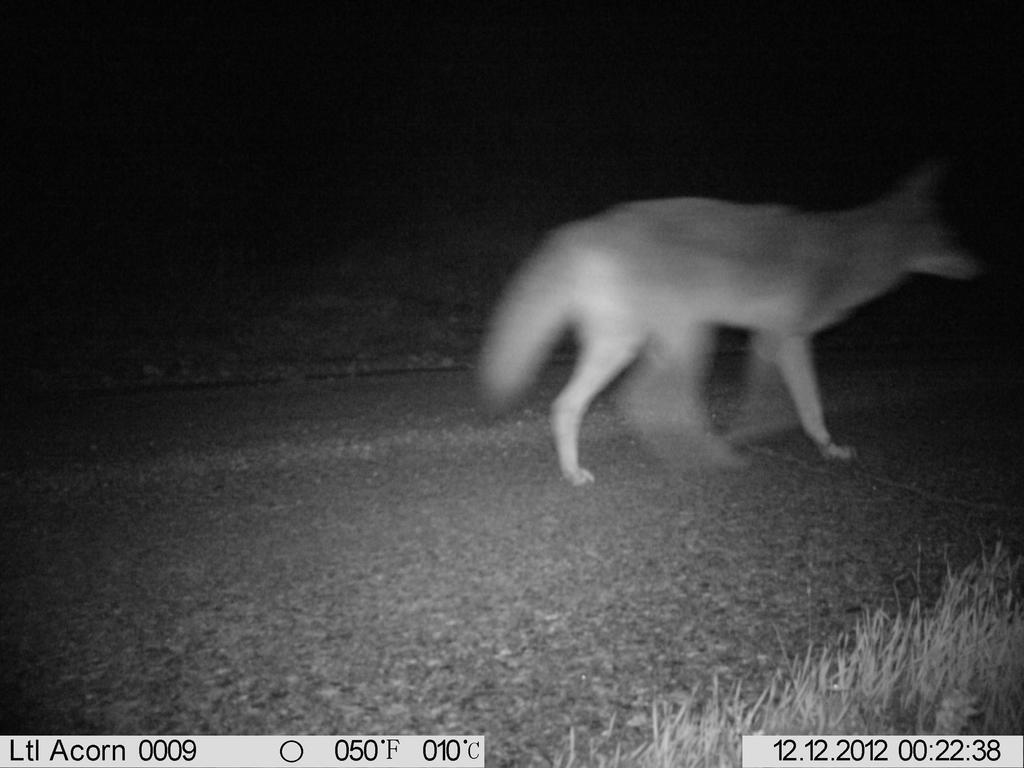coyote: (453, 139, 997, 498)
